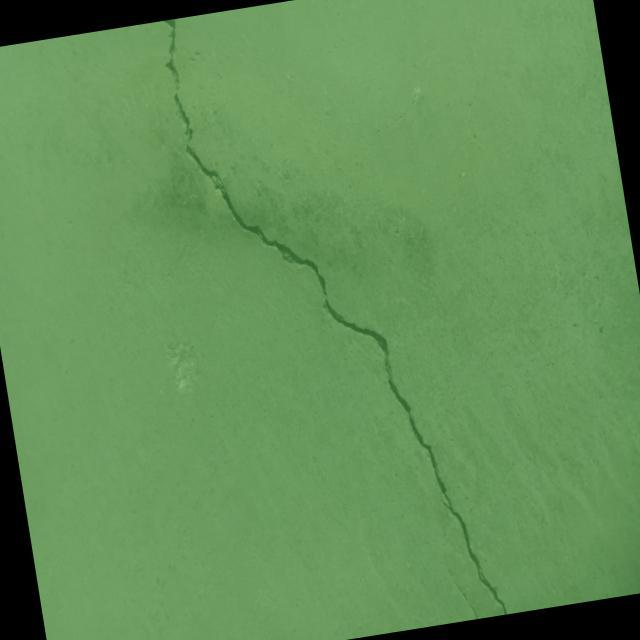crack: (158, 0, 509, 640), (444, 560, 478, 622)
